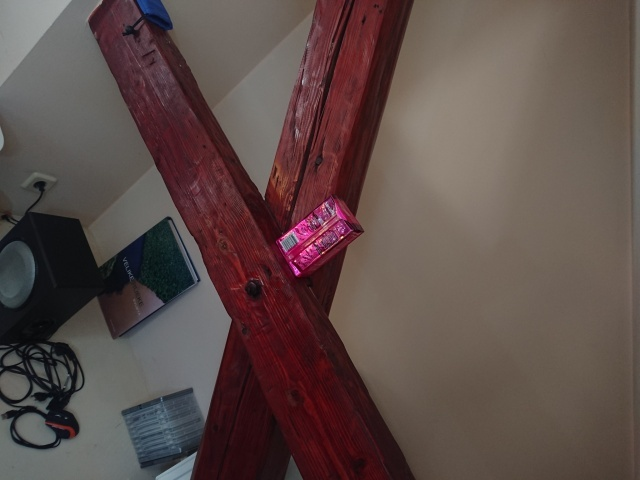Barcaffe Classic Original 225g: (273, 191, 365, 281)
